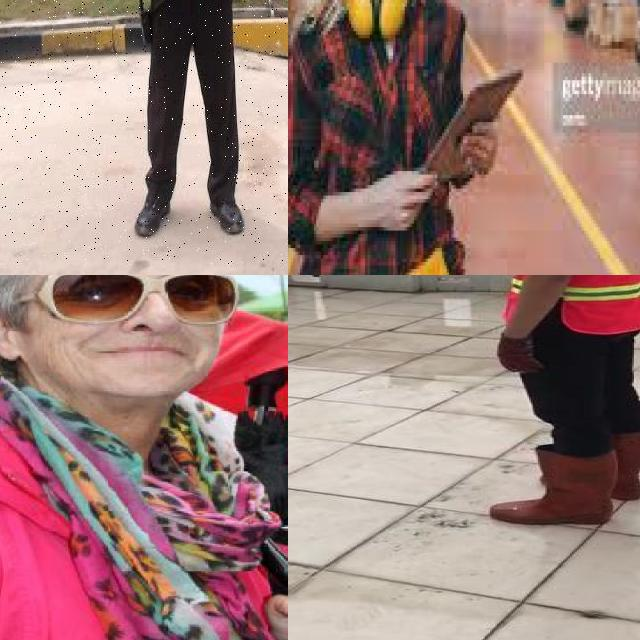Ear-protection: (339, 0, 374, 34), (374, 0, 407, 34)
boots: (492, 448, 620, 526), (206, 178, 248, 240), (133, 178, 173, 243), (609, 431, 640, 500)
face_nomask: (46, 275, 226, 373)
glasses: (0, 275, 237, 324)
hand_glove: (496, 333, 542, 375)
person: (0, 275, 288, 640), (0, 0, 288, 264), (288, 0, 505, 275), (473, 275, 640, 535)
vest: (504, 275, 640, 333)
